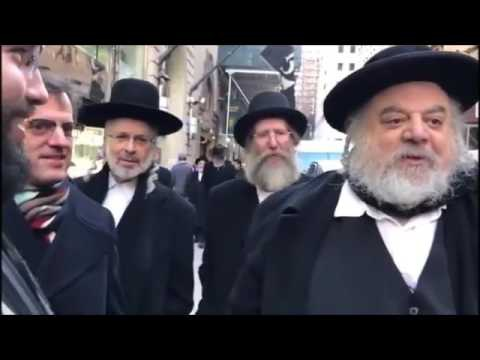bad: (354, 92, 462, 199), (24, 108, 87, 170), (108, 127, 151, 170)
